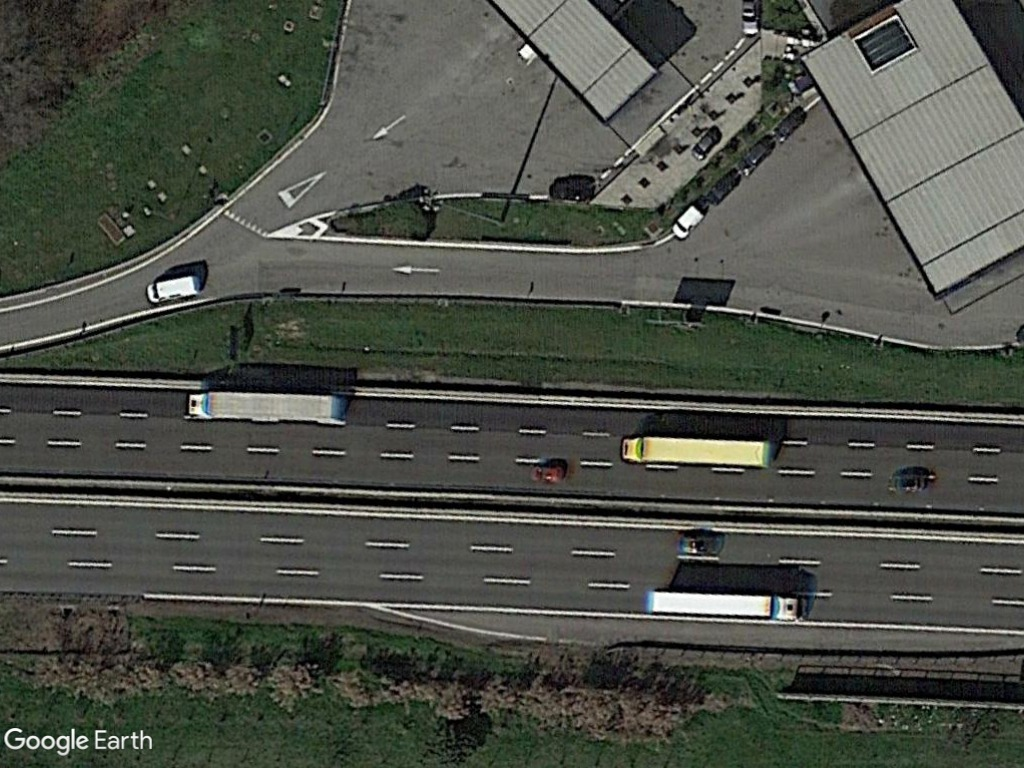car: (690, 125, 725, 161), (738, 0, 764, 39)
longvehicle: (182, 387, 352, 427), (642, 586, 810, 623), (617, 431, 776, 469)
van: (142, 275, 204, 304), (669, 201, 709, 239)
